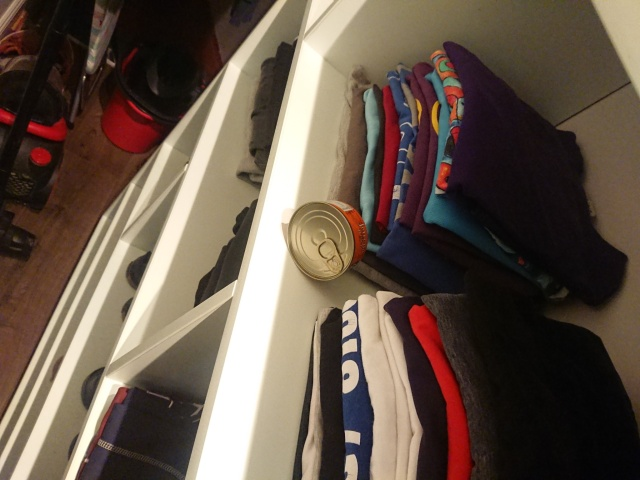Gavrilovic Pork Liver Pate 100g: (284, 197, 370, 285)
